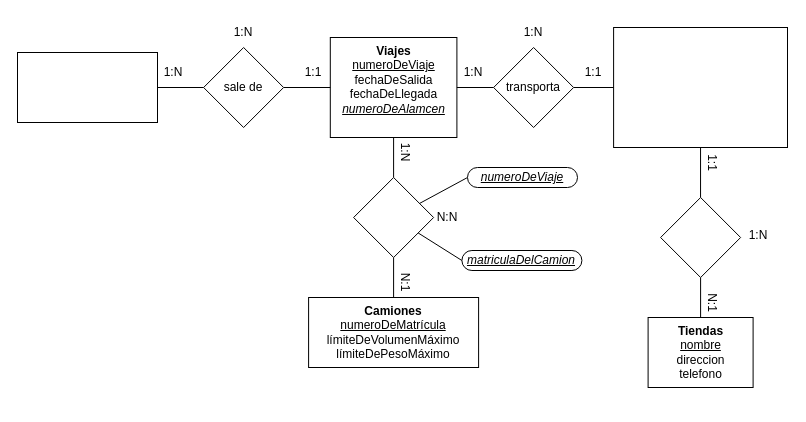
Some shapes in this 806 by 422 pixel diagram are drawn without their labels. The shapes that lost their labels are listed below. From the top down, each one's centre as x and y in pixels, then its label:
At pixel 87 87: "Almacenes númeroDeAlmacén direccion telefono".
At pixel 700 87: "Pedidos numeroDePedido peso volumen tienda númeroDeViaje estatus".
At pixel 393 217: "realiza".
At pixel 700 237: "solicita".
